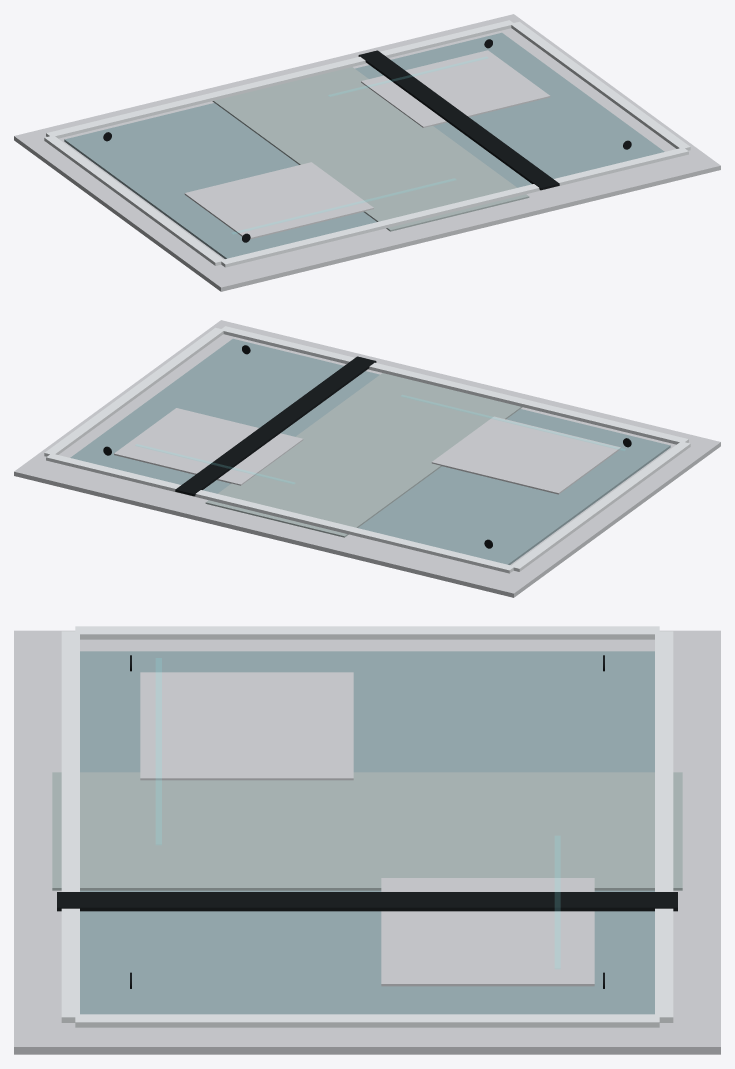
Rendered from hp_room_floor_tile_clinic.glb.
The picture shows the model from 3 angles, top to bottom: view 1: azimuth 30°, elevation 25°; view 2: azimuth 150°, elevation 25°; view 3: azimuth 270°, elevation 25°; orthographic projection. The views are drawn at different scales.
Visible parts, largest first — view 1: clinic_floor_slab_base, clinic_floor_cyan_line_a; view 2: clinic_floor_slab_base, clinic_floor_cyan_line_a; view 3: clinic_floor_slab_base, clinic_floor_cyan_line_a.
Part boxes in pixels (x1,y1,x2,y2): clinic_floor_slab_base: [14, 14, 720, 291]; clinic_floor_cyan_line_a: [232, 57, 487, 233]; clinic_floor_slab_base: [14, 320, 720, 597]; clinic_floor_cyan_line_a: [135, 395, 625, 483]; clinic_floor_slab_base: [14, 626, 720, 1054]; clinic_floor_cyan_line_a: [156, 658, 559, 968].
Bounding box in the file's own units: 4.25 × 0.1505 × 3.05.
2 materials, 2 textured.
